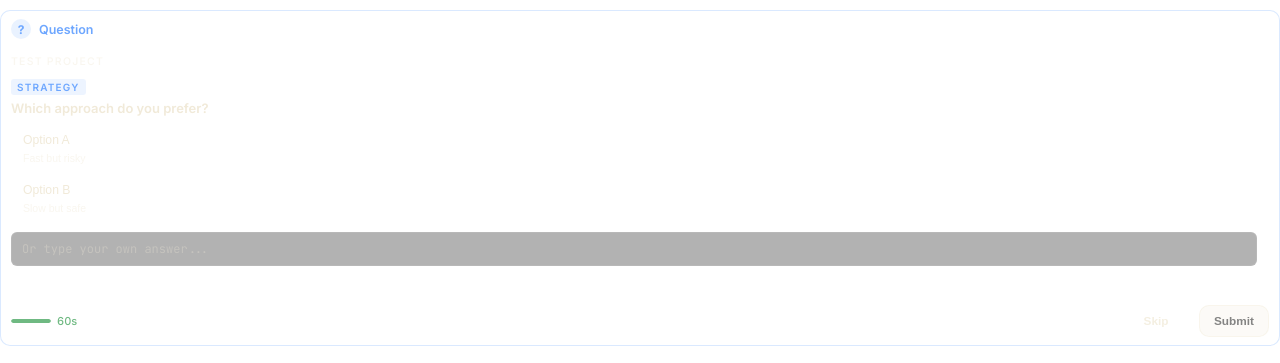
Test: ApprovalPanel: QuestionPanel › handles custom input as answer
Type "My custom answer" into the field with placeholder "Or type your own answer..." at (634, 249), box top-left (11, 232), bottom-right (1257, 266)
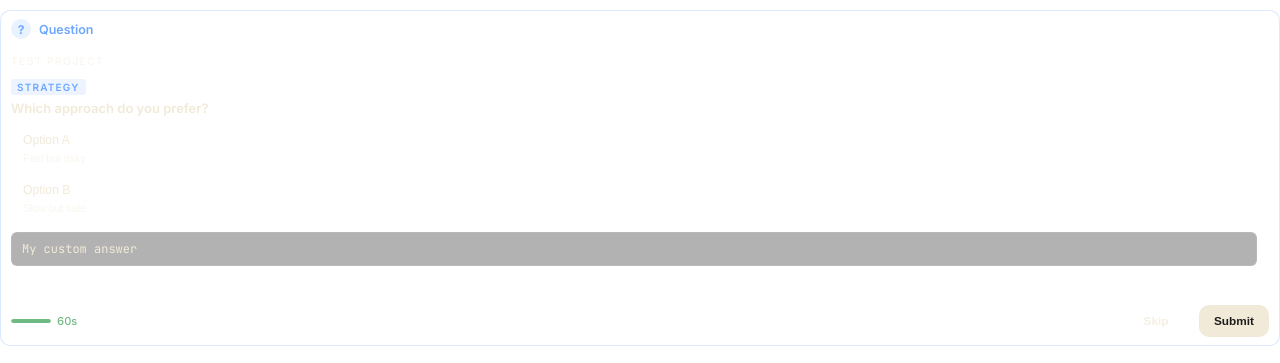
Now the button "Submit" is enabled, box top-left (1199, 305), bottom-right (1269, 337)
